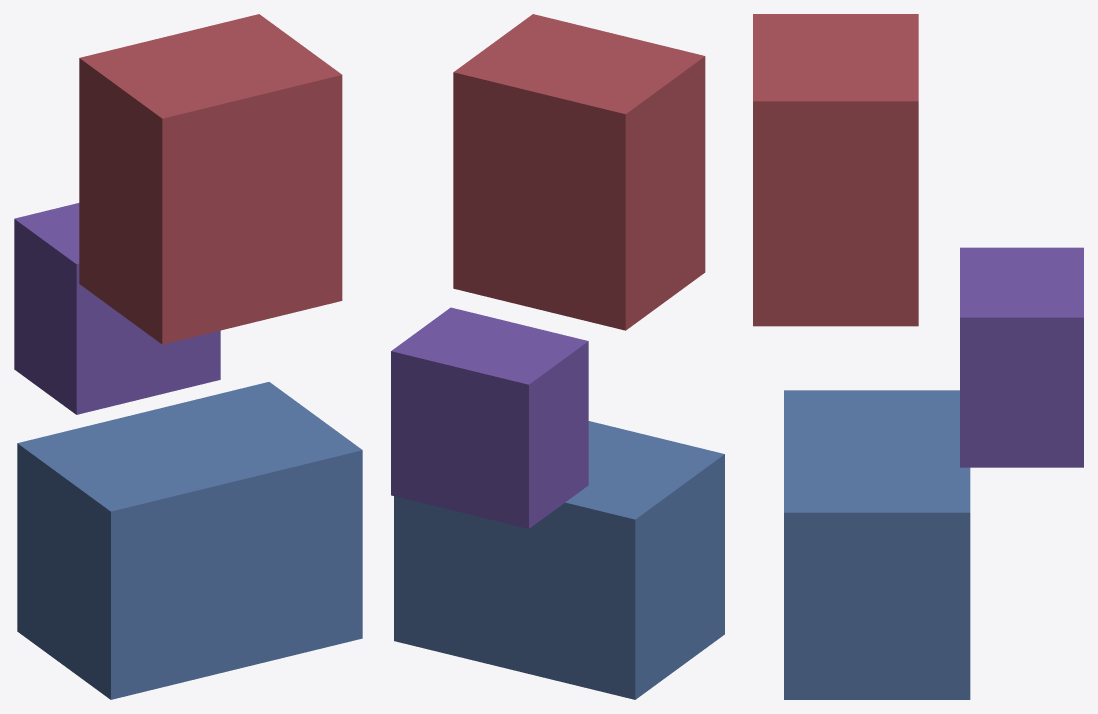
The picture shows the model from 3 angles, left to right: view 1: azimuth 30°, elevation 25°; view 2: azimuth 150°, elevation 25°; view 3: azimuth 270°, elevation 25°; orthographic projection. The views are drawn at different scales.
Parts seen in each view (by area): view 1: FIX-G-CORE-B, FIX-G-CORE-A, FIX-G-RESTRICTED; view 2: FIX-G-CORE-A, FIX-G-CORE-B, FIX-G-RESTRICTED; view 3: FIX-G-CORE-B, FIX-G-CORE-A, FIX-G-RESTRICTED.
Part boxes in pixels (x1,y1,x2,y2): FIX-G-CORE-B: (17, 382, 362, 699); FIX-G-CORE-A: (79, 14, 342, 344); FIX-G-RESTRICTED: (14, 203, 220, 414); FIX-G-CORE-A: (453, 14, 705, 330); FIX-G-CORE-B: (394, 421, 724, 699); FIX-G-RESTRICTED: (391, 307, 588, 528); FIX-G-CORE-B: (784, 390, 970, 699); FIX-G-CORE-A: (753, 14, 918, 326); FIX-G-RESTRICTED: (960, 247, 1083, 467).
Bounding box in the file's own units: 0.14 × 0.31 × 0.16.
